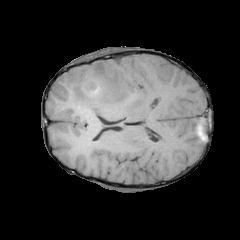glioma: (69, 61, 135, 116)
